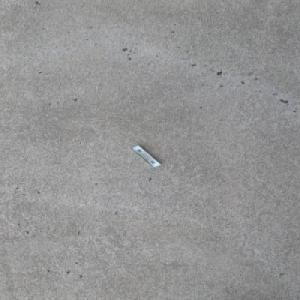ClampPart: (129, 144, 162, 168)
